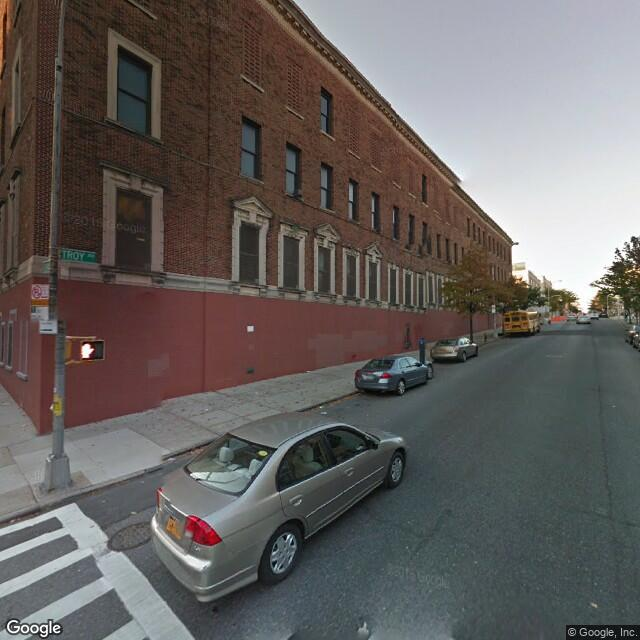litter: (167, 458, 177, 462), (322, 410, 329, 415)
